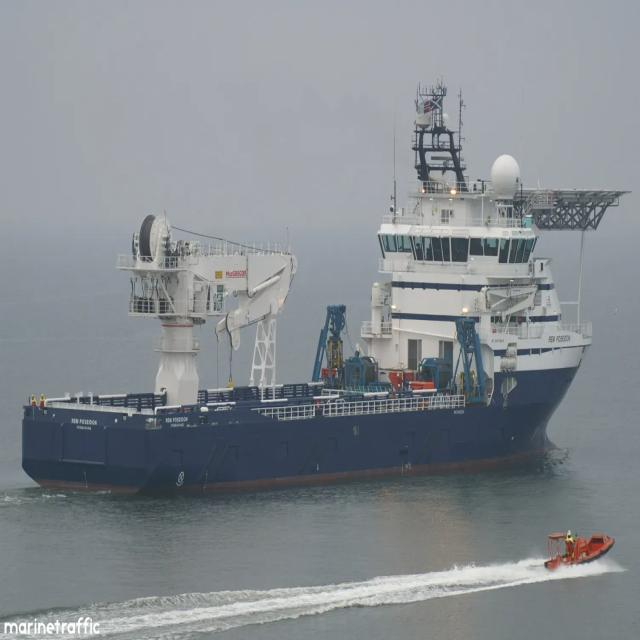Offshore: (22, 83, 624, 491)
